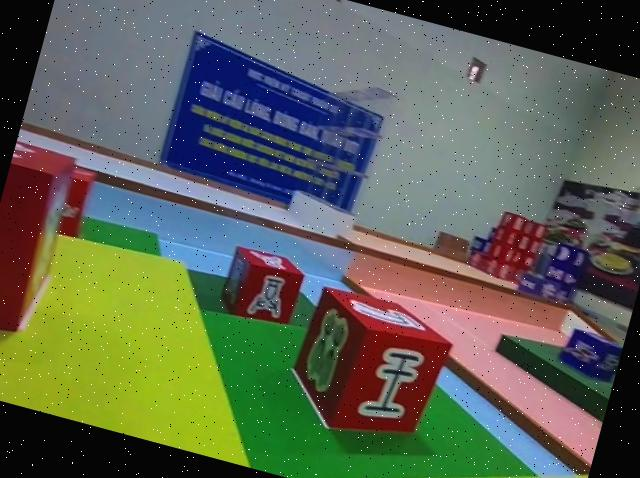R2 Fake: (277, 278, 460, 454)
R2 Real: (0, 137, 79, 351), (216, 241, 306, 326)
